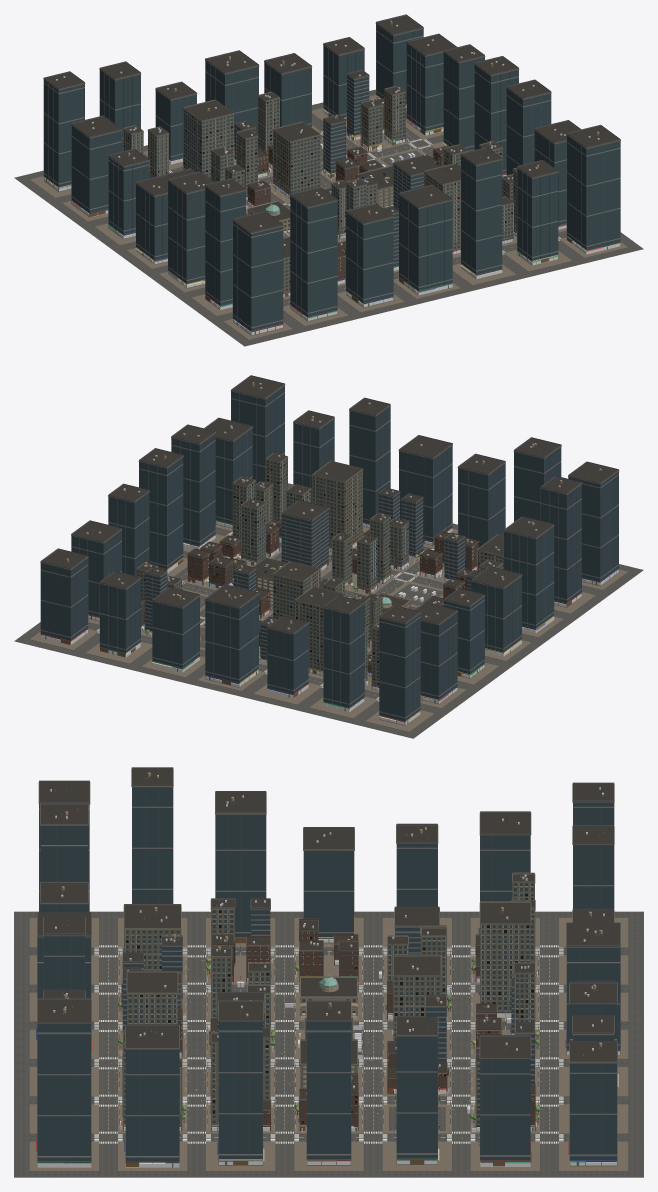
File: map_police.glb
The picture shows the model from 3 angles, top to bottom: view 1: azimuth 30°, elevation 25°; view 2: azimuth 150°, elevation 25°; view 3: azimuth 270°, elevation 25°; orthographic projection. The views are drawn at different scales.
Parts seen in each view (by area): view 1: Ground_road, Ring_168_168, Ground_sidewalk, Ring_-112_168, Ring_-168_168, Ring_0_168, Ring_56_168, Ring_-56_168, Ring_-168_56, Ring_112_168, Ring_-168_112, Ring_-168_-112 (+35 smaller); view 2: Ground_road, Ground_sidewalk, Ring_0_-168, Ring_-168_-168, Ring_-112_-168, Ring_-168_56, Ring_-168_168, Ring_168_0, Ring_0_168, Ring_168_-168, Ring_168_56, Ring_-168_112 (+37 smaller); view 3: Ground_road, Ground_sidewalk, Ring_168_168, Ring_168_112, Ring_168_0, Ring_168_56, Ring_168_-112, Ground_markings, Ring_-168_56, Ring_168_-56, Ring_168_-168, Ring_-168_112 (+37 smaller).
Part boxes in pixels (box(x1,y1,x2,y2)): Ground_road: box(14, 89, 643, 346); Ring_168_168: box(566, 125, 620, 251); Ground_sidewalk: box(30, 95, 627, 339); Ring_-112_168: box(290, 187, 338, 321); Ring_-168_168: box(232, 211, 283, 335); Ring_0_168: box(398, 184, 452, 294); Ring_56_168: box(460, 147, 502, 278); Ring_-56_168: box(346, 203, 393, 307); Ring_-168_56: box(167, 171, 214, 288); Ring_112_168: box(516, 160, 558, 265); Ring_-168_112: box(205, 178, 246, 309); Ring_-168_-112: box(71, 115, 122, 217); Ground_road: box(14, 483, 643, 738); Ground_sidewalk: box(30, 488, 627, 731); Ring_0_-168: box(205, 584, 259, 687); Ring_-168_-168: box(379, 605, 420, 725); Ring_-112_-168: box(323, 595, 364, 711); Ring_-168_56: box(503, 516, 554, 631); Ring_-168_168: box(568, 461, 619, 585); Ring_168_0: box(138, 448, 183, 571); Ring_0_168: box(398, 435, 452, 545); Ring_168_-168: box(40, 548, 88, 644); Ring_168_56: box(171, 424, 215, 546); Ring_-168_112: box(540, 476, 582, 607); Ground_road: box(14, 911, 643, 1177); Ground_sidewalk: box(29, 918, 628, 1170); Ring_168_168: box(36, 998, 91, 1166); Ring_168_112: box(124, 1024, 179, 1167); Ring_168_0: box(306, 1000, 351, 1165); Ring_168_56: box(217, 1000, 264, 1165); Ring_168_-112: box(478, 1035, 531, 1166); Ground_markings: box(94, 945, 563, 1143); Ring_-168_56: box(215, 791, 266, 943); Ring_168_-56: box(396, 1016, 439, 1164); Ring_168_-168: box(568, 1041, 617, 1166); Ring_-168_112: box(131, 767, 173, 903).
Bounding box in the file's own units: 400 × 113 × 400.
71 materials, 8 textured.
